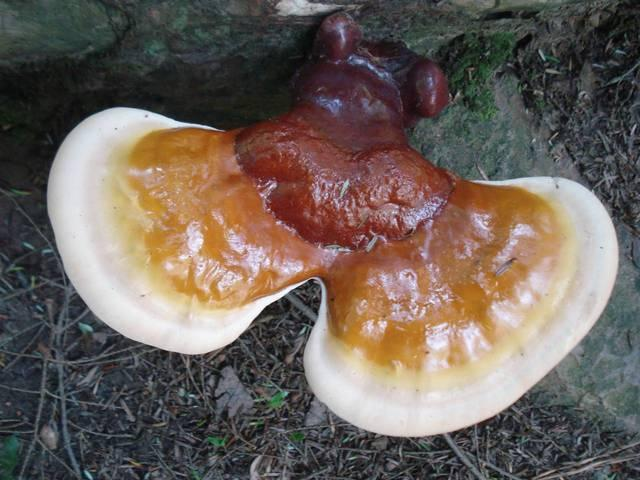poisonous_mushroom: (44, 11, 620, 438)
